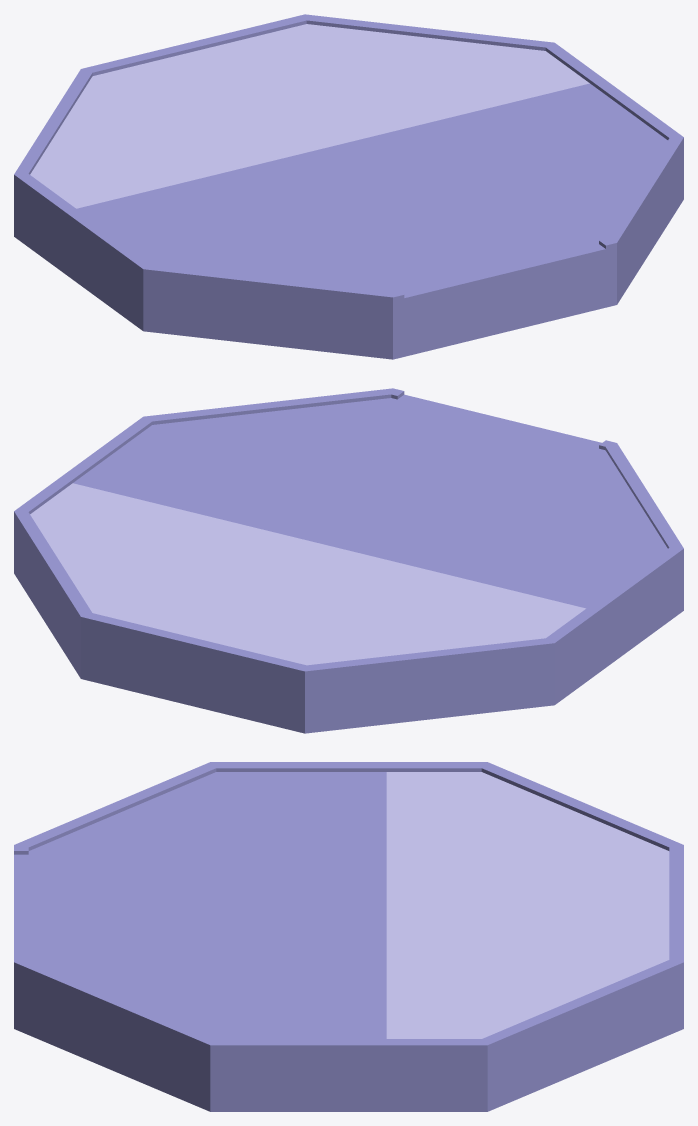
Rendered from road_final.fbx.
The picture shows the model from 3 angles, top to bottom: view 1: azimuth 30°, elevation 25°; view 2: azimuth 150°, elevation 25°; view 3: azimuth 270°, elevation 25°; orthographic projection. The views are drawn at different scales.
Visible parts, largest first — view 1: road_final.003; view 2: road_final.003; view 3: road_final.003.
Boxes of the visible parts, <box> form: road_final.003: <box>14,14,683,359</box>; road_final.003: <box>14,388,683,733</box>; road_final.003: <box>14,762,683,1111</box>.
Bounding box in the file's own units: 4.83 × 0.5304 × 4.83.
